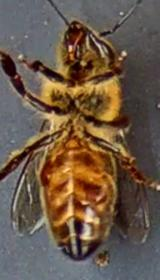varroa_mite: (24, 156, 66, 192), (76, 174, 118, 206)
